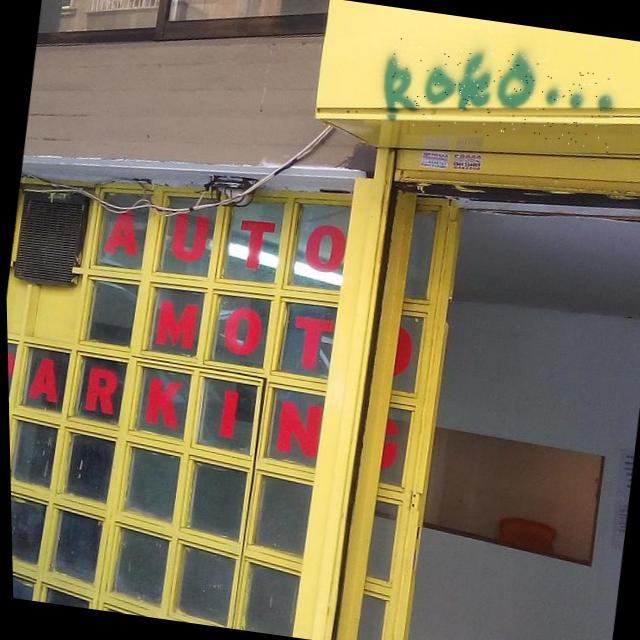-: (378, 37, 620, 153)
